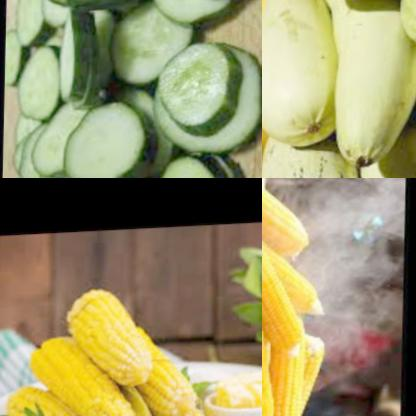corn: (69, 285, 161, 394), (33, 321, 137, 416), (262, 204, 313, 370), (126, 324, 195, 416), (262, 334, 332, 416), (265, 244, 331, 326), (0, 371, 115, 416), (262, 178, 316, 261), (266, 323, 304, 416), (153, 386, 240, 416), (262, 303, 281, 416)
cucumber: (2, 0, 262, 178)
vegetable marrow: (301, 0, 416, 174), (262, 0, 351, 162), (262, 118, 371, 178), (350, 124, 416, 178), (395, 0, 416, 64), (403, 49, 416, 151)
